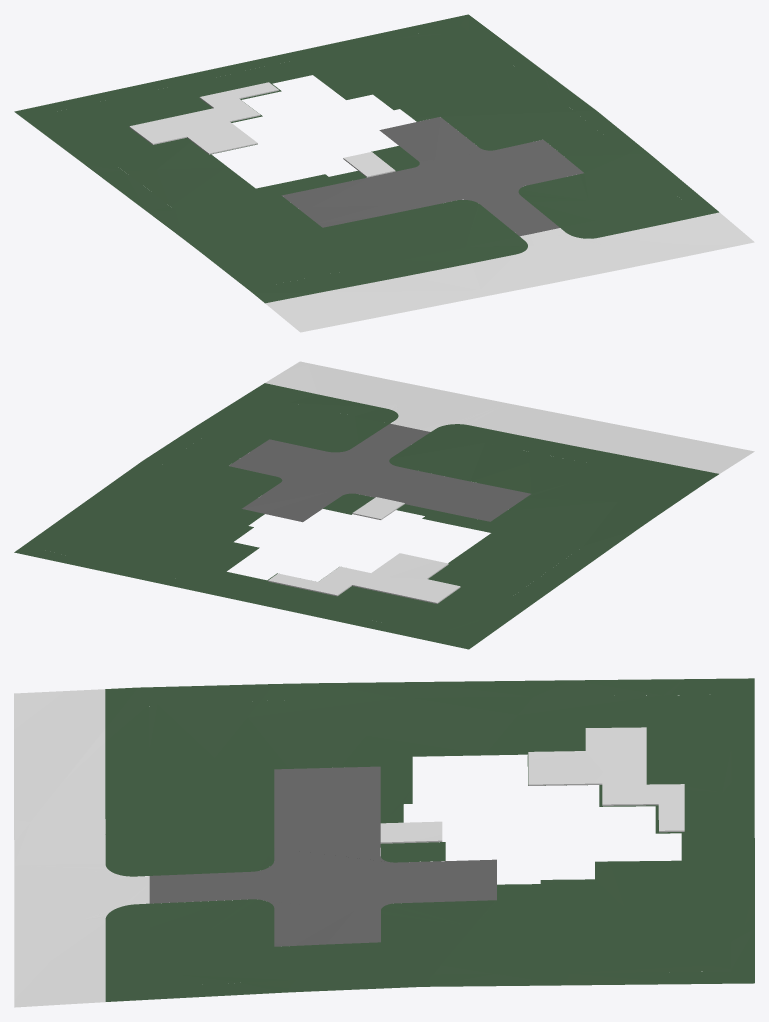
Rendered from site_final.glb.
3 views of the same model, one above another, from view 1: azimuth 30°, elevation 25°; view 2: azimuth 150°, elevation 25°; view 3: azimuth 270°, elevation 25° (orthographic). The views are drawn at different scales.
Parts seen in each view (by area): view 1: terrain.green, terrain.001, terrain.road, terrain.driveway, terrain.pavers; view 2: terrain.green, terrain.001, terrain.road, terrain.driveway, terrain.pavers; view 3: terrain.green, terrain.001, terrain.road, terrain.driveway, terrain.pavers.
Part boxes in pixels (box(x1,y1,x2,y2)): terrain.green: box(47, 25, 683, 284); terrain.001: box(14, 14, 718, 303); terrain.road: box(265, 212, 754, 332); terrain.driveway: box(281, 117, 583, 236); terrain.pavers: box(129, 82, 395, 177); terrain.green: box(41, 397, 678, 637); terrain.001: box(14, 383, 718, 649); terrain.road: box(265, 361, 754, 473); terrain.driveway: box(229, 423, 530, 522); terrain.pavers: box(268, 497, 460, 603); terrain.green: box(149, 694, 731, 987); terrain.001: box(105, 678, 754, 1001); terrain.road: box(14, 689, 149, 1007); terrain.driveway: box(149, 766, 496, 946); terrain.pavers: box(380, 727, 684, 843).
Bounding box in the file's own units: 44.65 × 3.03 × 48.67.
